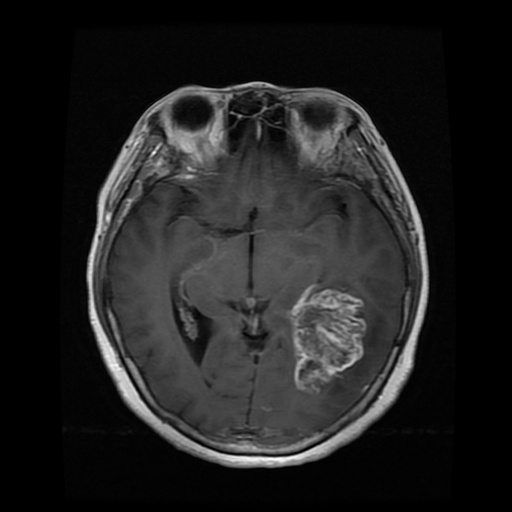glioma: (290, 286, 366, 392)
